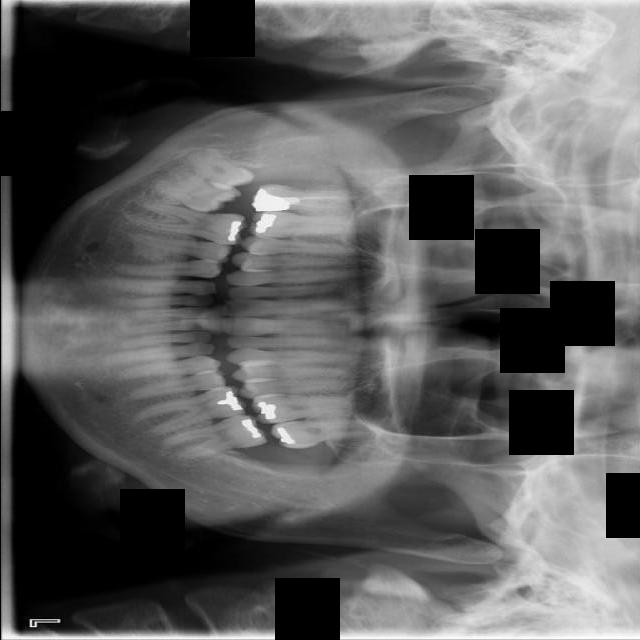52: (217, 404, 269, 459), (199, 376, 250, 430), (199, 205, 249, 251), (248, 388, 296, 428), (245, 207, 296, 242), (269, 419, 318, 451), (250, 184, 300, 211)
73: (294, 189, 362, 213), (31, 610, 51, 616)
BioHorizons Implant: (269, 418, 379, 450)
Blue Sky Bio Implant: (155, 410, 268, 467)
Caries: (250, 184, 363, 213)
Implant: (152, 157, 241, 226)
Keystone Dental Implant: (181, 138, 256, 203)
